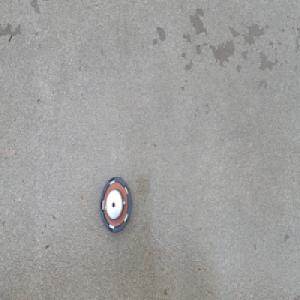FuelCap: (99, 174, 132, 236)
